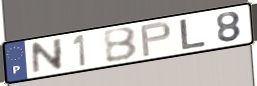1: (71, 33, 88, 68)
8: (215, 11, 244, 44)
B: (102, 25, 140, 65)
L: (179, 17, 208, 51)
N: (30, 36, 65, 76)
P: (139, 20, 173, 59)
